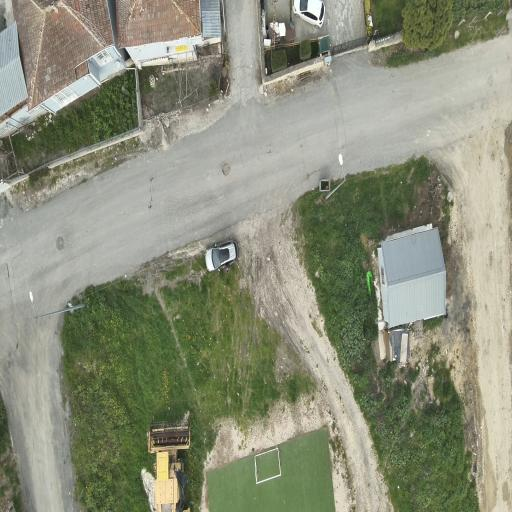car: (206, 240, 238, 271), (293, 0, 325, 28)
harvester: (149, 421, 190, 511)
